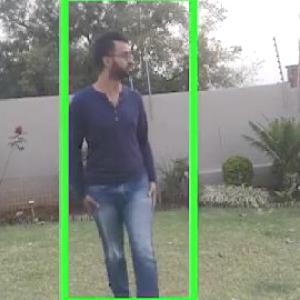follow: (66, 25, 166, 299)
